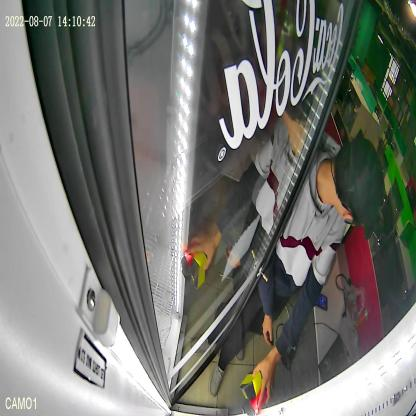red: (242, 385, 267, 416)
yellow: (240, 369, 262, 401)
